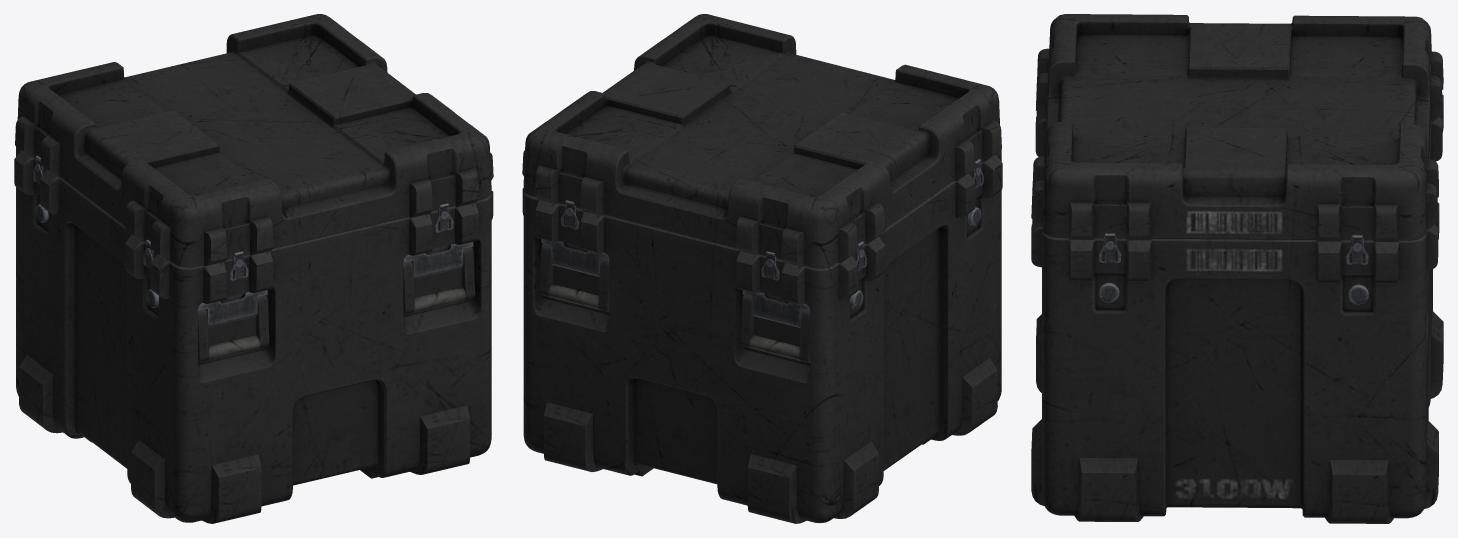
File: case_box_lite.glb
3 renders of one model, left to right at view 1: azimuth 30°, elevation 25°; view 2: azimuth 150°, elevation 25°; view 3: azimuth 270°, elevation 25°, orthographic. The views are drawn at different scales.
Visible parts, largest first — view 1: body, lid; view 2: body, lid; view 3: body, lid.
Boxes of the visible parts, bbox=[...] form: body: bbox=[14, 146, 493, 523]; lid: bbox=[15, 14, 493, 267]; body: bbox=[522, 150, 1002, 523]; lid: bbox=[522, 14, 1001, 268]; body: bbox=[1031, 94, 1443, 523]; lid: bbox=[1031, 14, 1443, 242].
Size of the model in its own units: 0.6089 by 0.5679 by 0.5967.
Materials: 1 (1 with a texture image).
